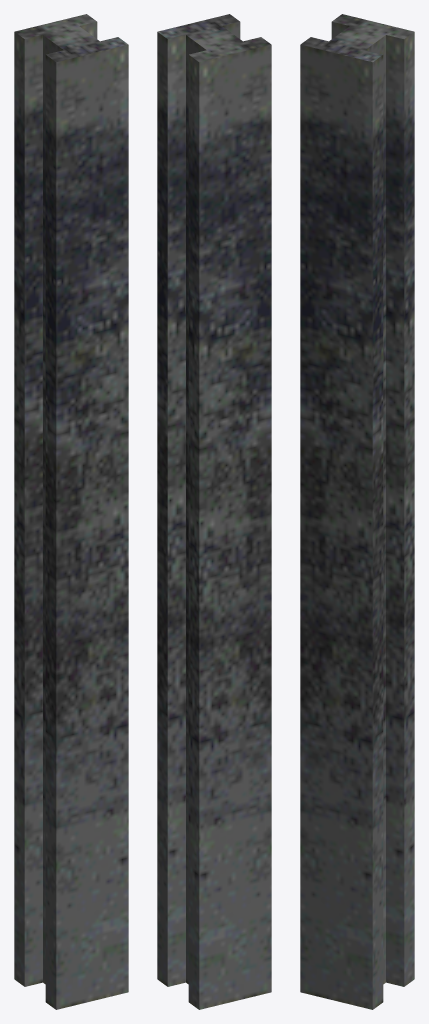
File: Urban_PlackardCornerOpenAlt_Alternate_b8e23b_Model.fbx
3 renders of one model, left to right at view 1: azimuth 30°, elevation 25°; view 2: azimuth 210°, elevation 25°; view 3: azimuth 330°, elevation 25°, orthographic.
Parts seen in each view (by area): view 1: Urban_PlackardCornerOpenAlt_Alternate_b8e23b_Mesh; view 2: Urban_PlackardCornerOpenAlt_Alternate_b8e23b_Mesh; view 3: Urban_PlackardCornerOpenAlt_Alternate_b8e23b_Mesh.
Boxes of the visible parts, x1=… form: Urban_PlackardCornerOpenAlt_Alternate_b8e23b_Mesh: x1=14, y1=14, x2=128, y2=1009; Urban_PlackardCornerOpenAlt_Alternate_b8e23b_Mesh: x1=157, y1=14, x2=271, y2=1009; Urban_PlackardCornerOpenAlt_Alternate_b8e23b_Mesh: x1=300, y1=14, x2=414, y2=1009.
Size of the model in its own units: 0.2 by 2.5 by 0.2.
